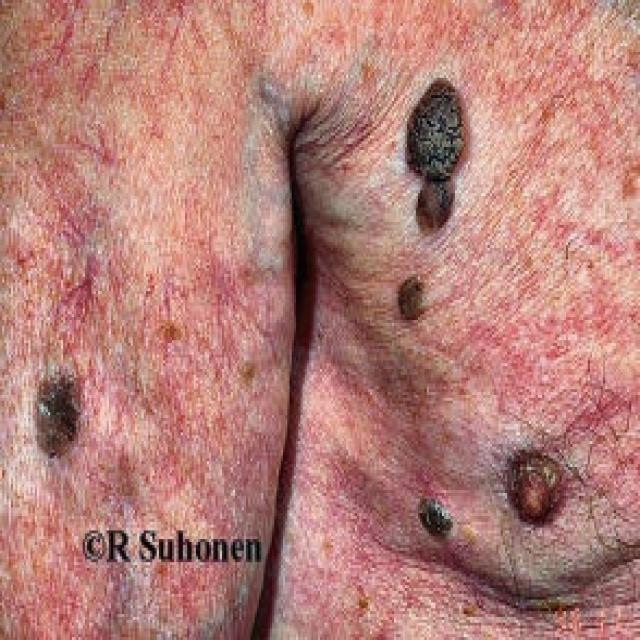Seborrheic-Keratoses-and-other-Benign-Tumors: (367, 63, 624, 582), (24, 306, 112, 494)
